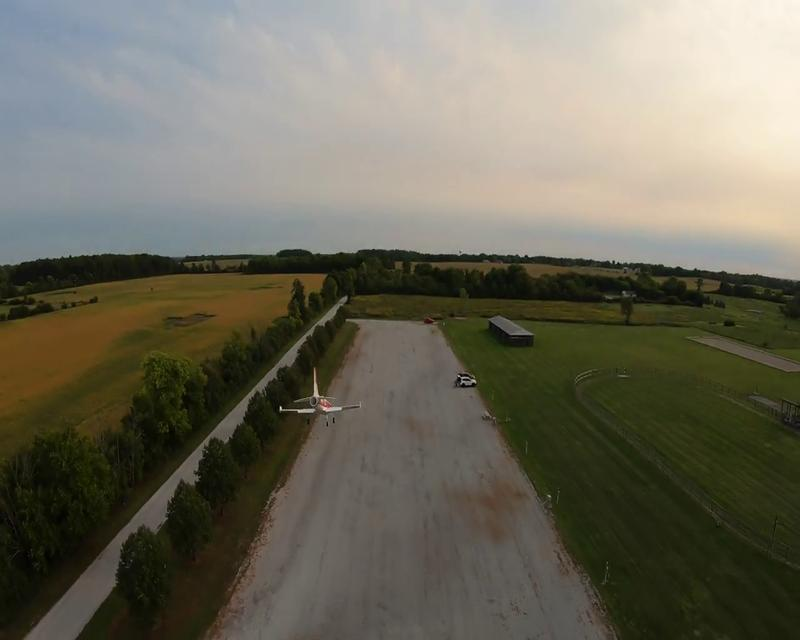UAV: (277, 365, 361, 427)
